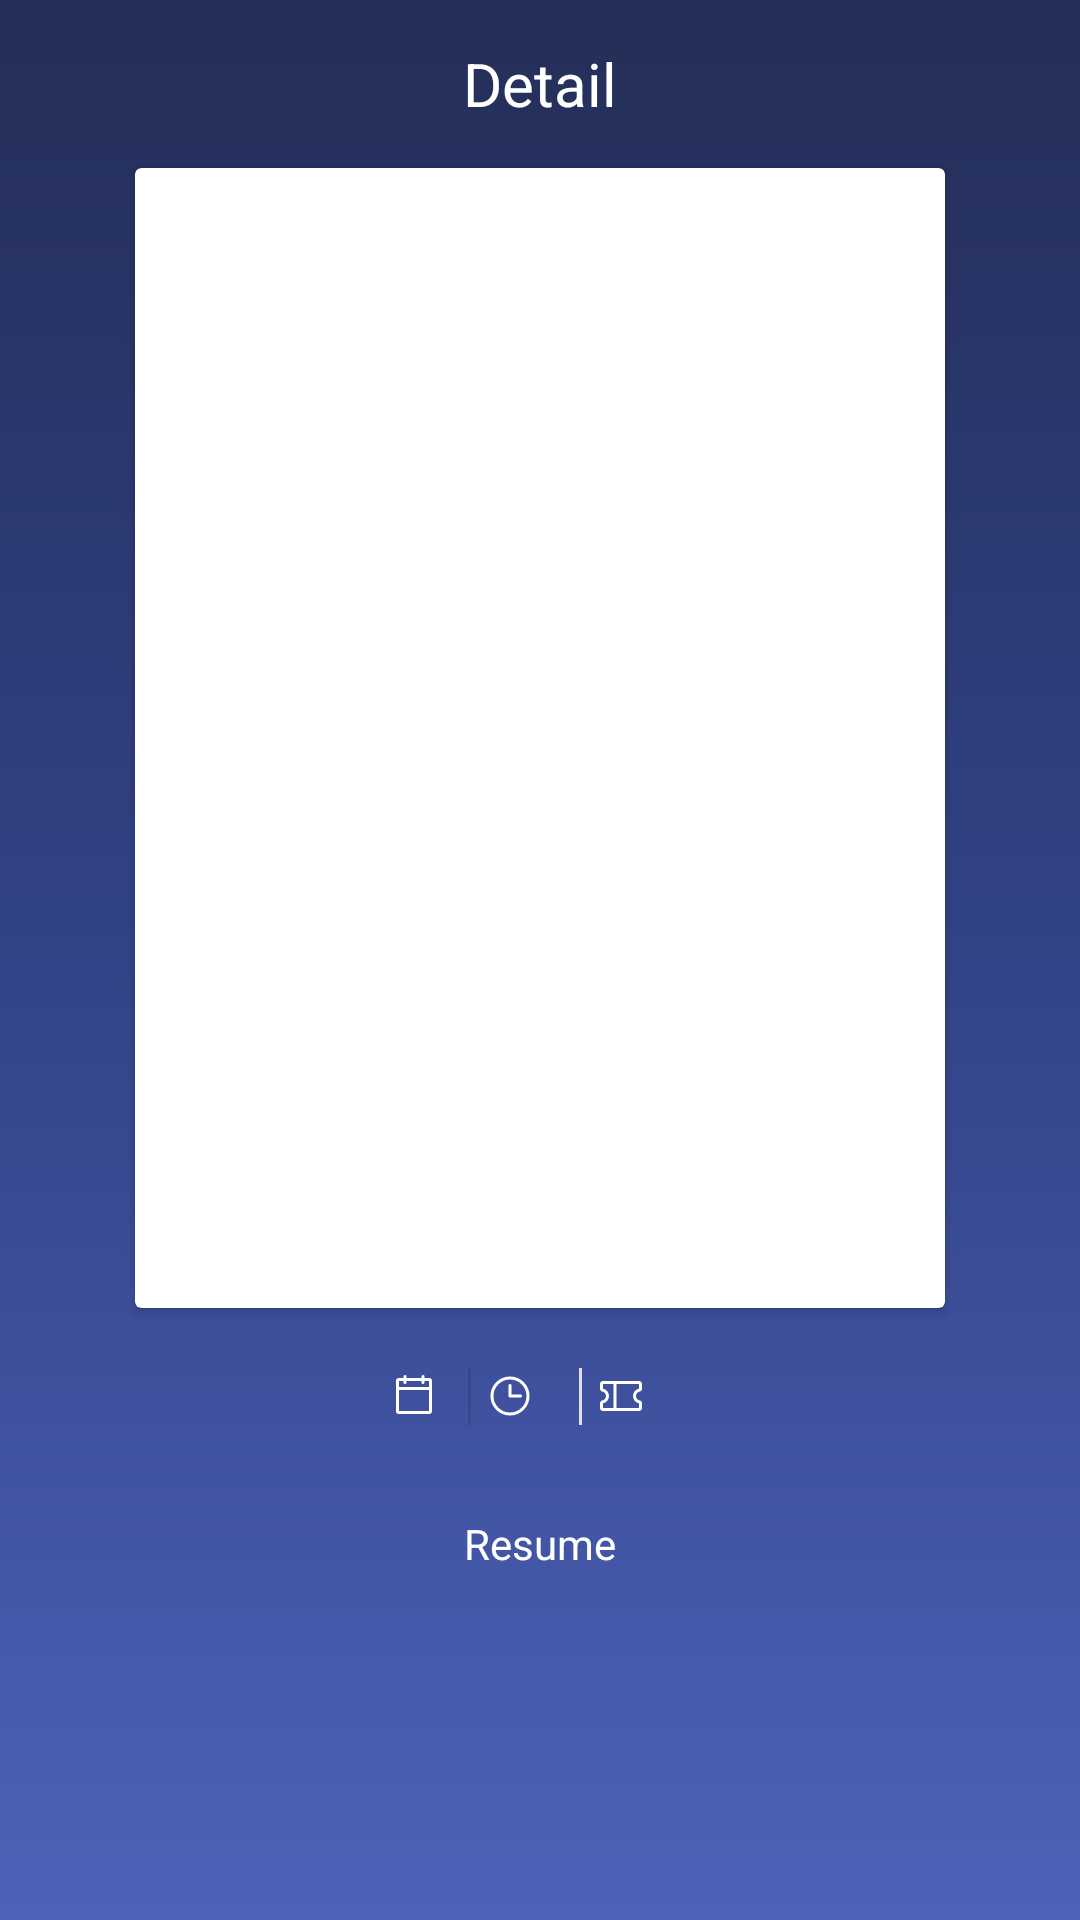

Icon bounding boxes for this 1080px×1920px phone screenshot, format BBox(x1, y1, x2, y2):
calendar: BBox(396, 1375, 432, 1414)
clock: BBox(490, 1376, 530, 1416)
ticket: BBox(600, 1381, 642, 1411)
